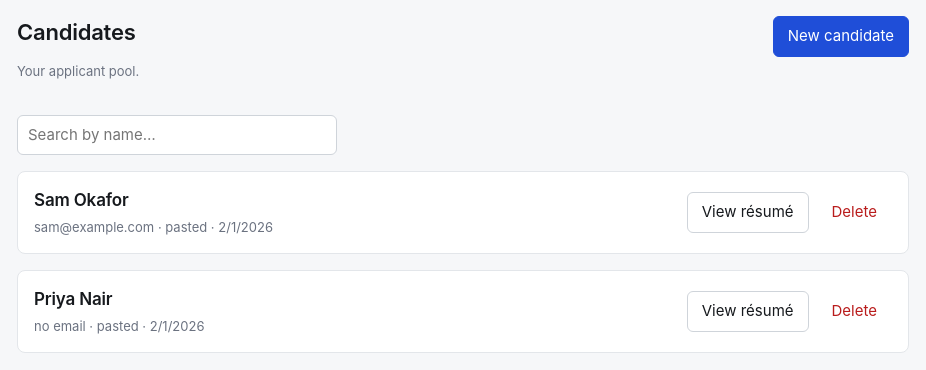
Test: the name search filters the visible rows
This screenshot has width=926, height=370.
Expected: the heading "Priya Nair" is shown, [34, 289, 112, 309]
In the field labelled "Search by name": (177, 135) [17, 114, 337, 155], type "sam"
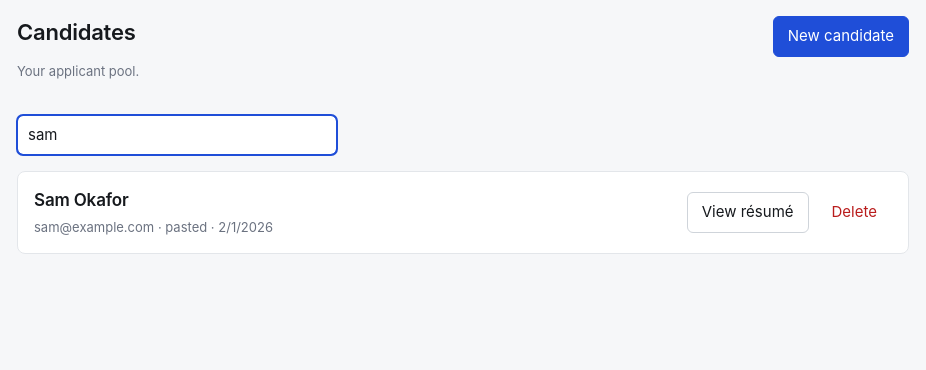
Expected: the heading "Sam Okafor" is shown, [34, 190, 128, 210]
Expected: the heading "Priya Nair" is gone
